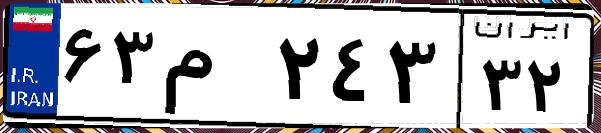2: (270, 28, 330, 110), (525, 38, 570, 115)
3: (385, 28, 445, 110), (475, 38, 525, 113), (110, 28, 158, 98)
4: (330, 28, 385, 110)
6: (57, 26, 110, 100)
م: (158, 20, 270, 120)
